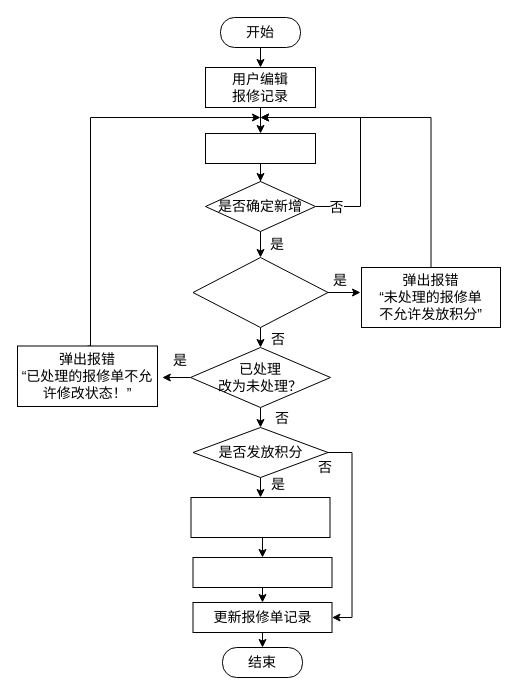
This 518x695 diagram has some shape labels left out. Here are the shapes that lost their labels. From the top down, the centre of each, then its label:
the point at 260,148: 填写信息
the point at 260,292: 设置为未处理 且发放积分？
the point at 260,517: 插入“报修获赠” 积分记录
the point at 262,572: 更新用户积分值
